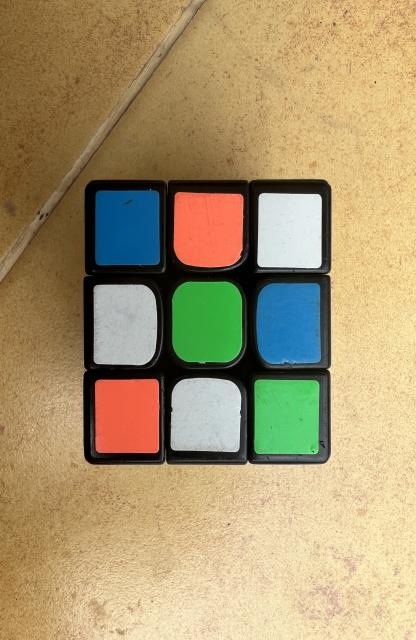Blue: (257, 282, 321, 364), (95, 190, 159, 265)
Green: (172, 281, 243, 364), (255, 379, 320, 455)
Orange: (173, 192, 244, 268), (94, 379, 159, 454)
White: (170, 378, 242, 452), (93, 285, 157, 365), (258, 192, 322, 269)
